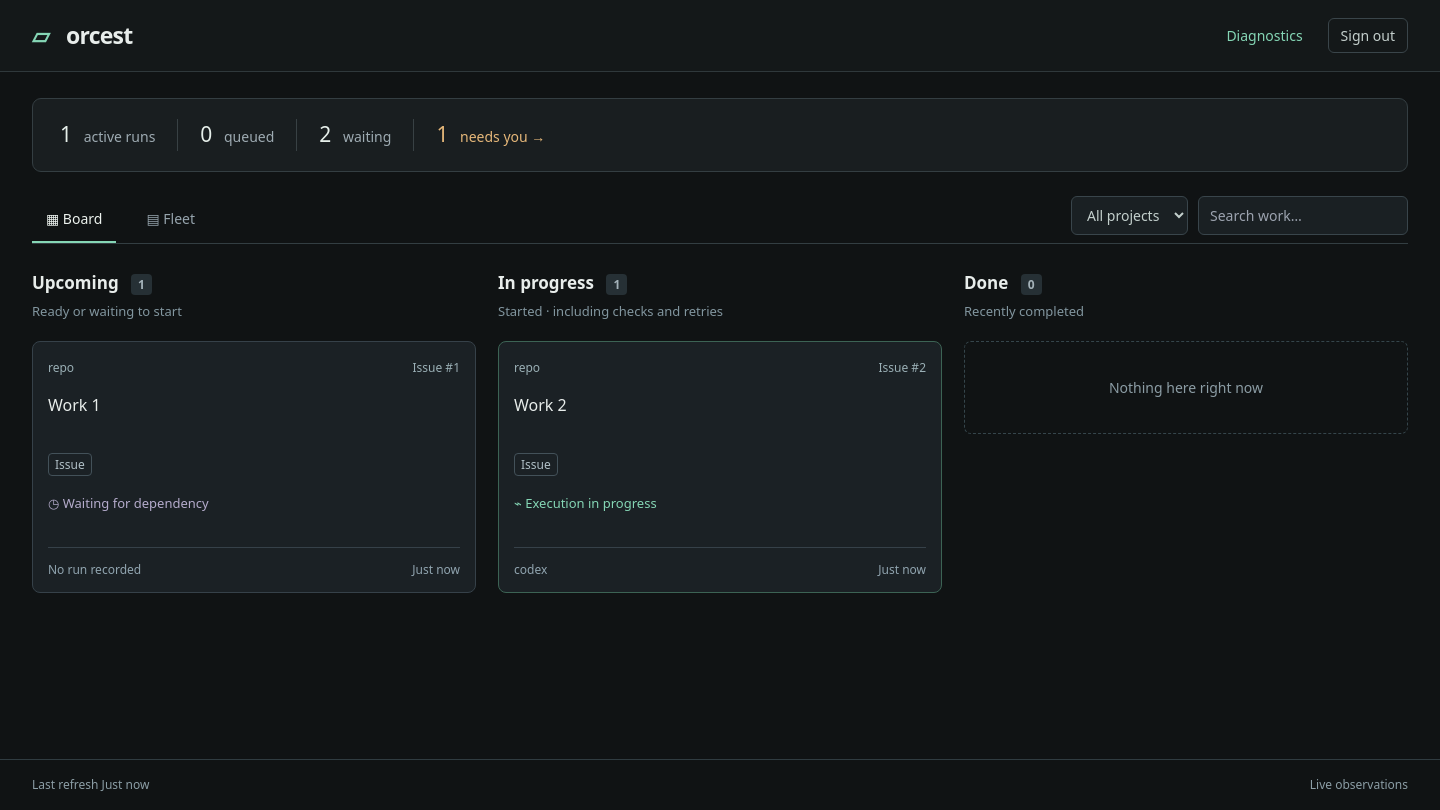
does not show an unrelated snapshot when a new project filter fails
Expected: the button with aria-label "Open org/repo #2: Work 2" is shown, [498,340,942,592]
Select "org/other" in the dropdown named "Project" at (1130, 216), box [1071,196,1188,235]
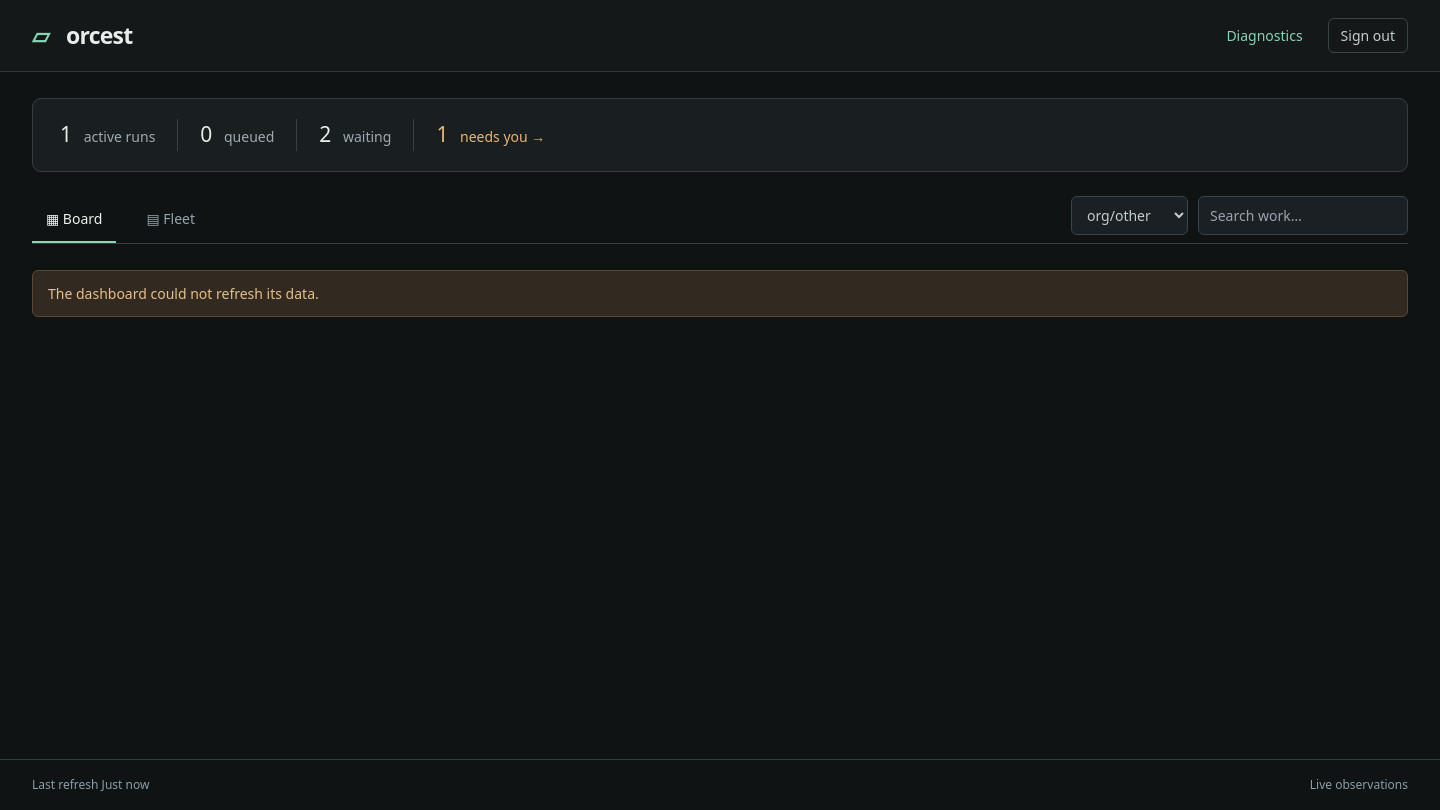
Expected: the message shows "could not refresh", [48,284,319,302]
Select "All projects" in the dropdown named "Project" at (1130, 216), box [1071,196,1188,235]
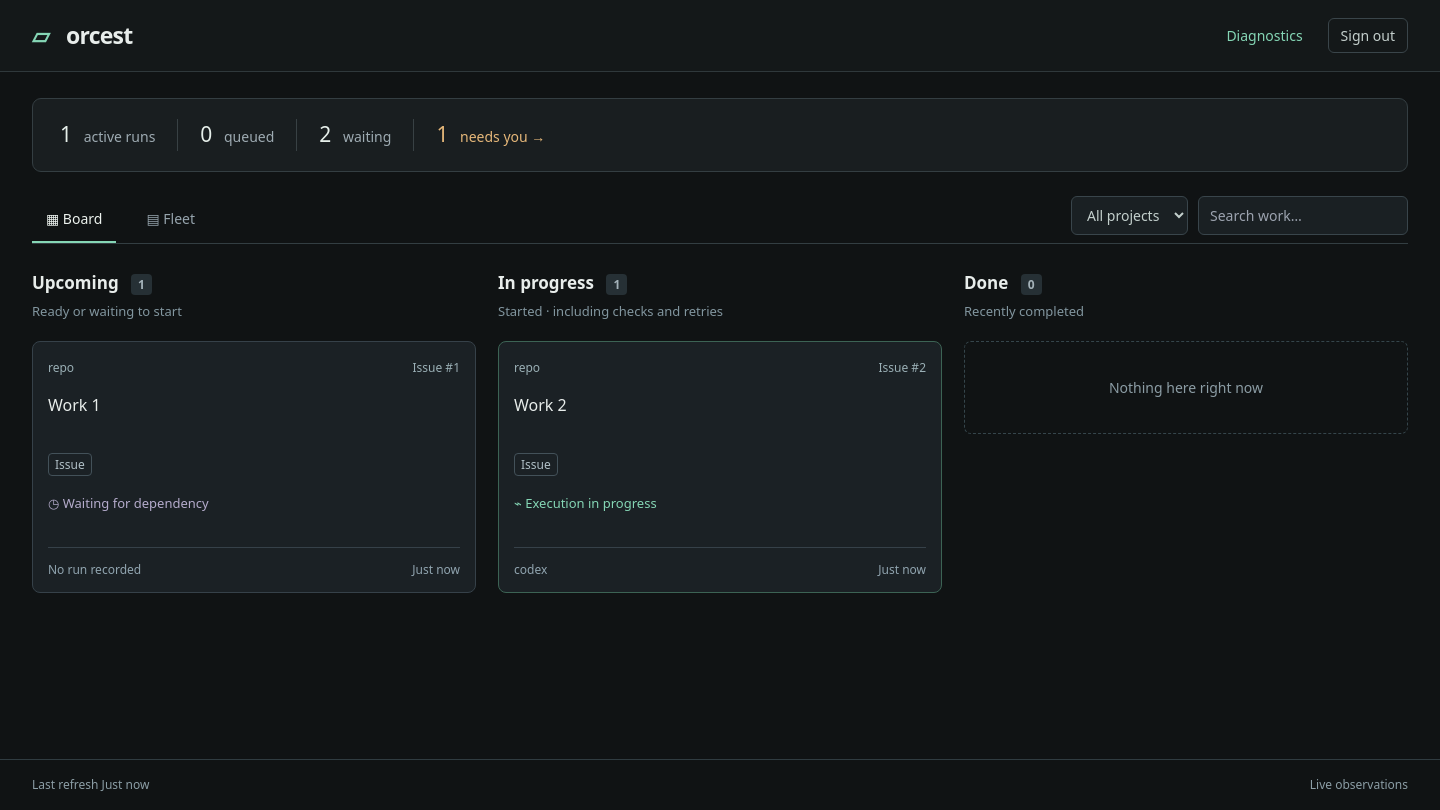
Expected: the button with aria-label "Open org/repo #2: Work 2" is shown, [498,340,942,592]
